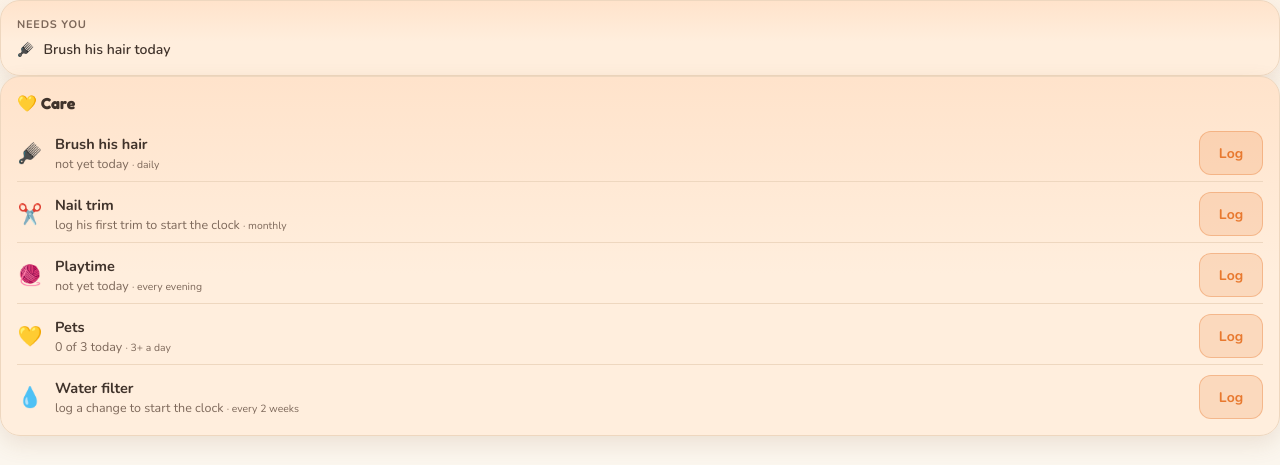
Test: Care log + reminders › logging a task POSTs and refreshes; a ✓ notice appears
This screenshot has width=1280, height=465.
Click the button with aria-label "Log: Brush his hair". click: (1231, 153)
box: 1199,131 -> 1263,175
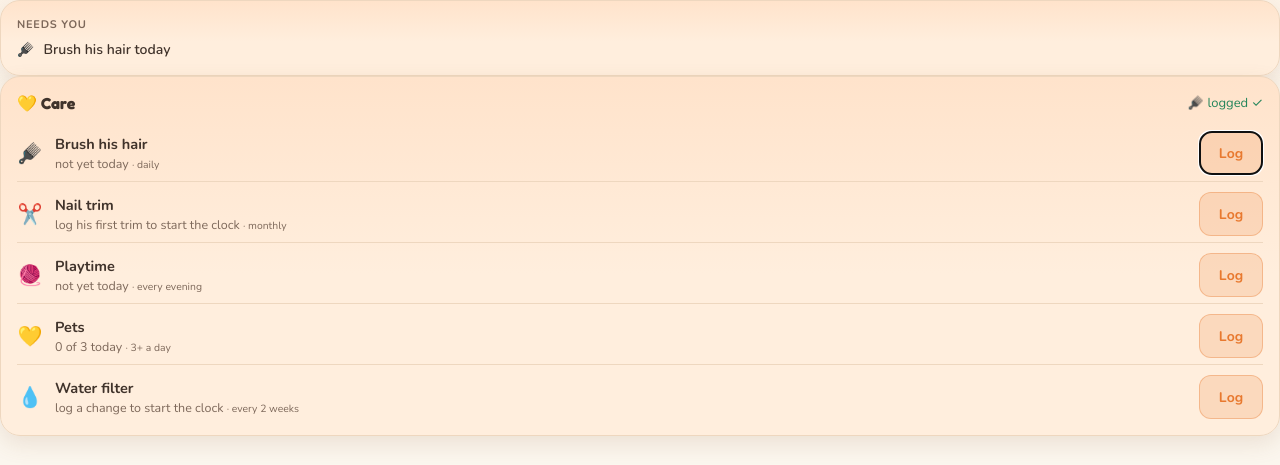
Now the text "🪮 logged ✓" is shown, box 1188,94 -> 1263,112
